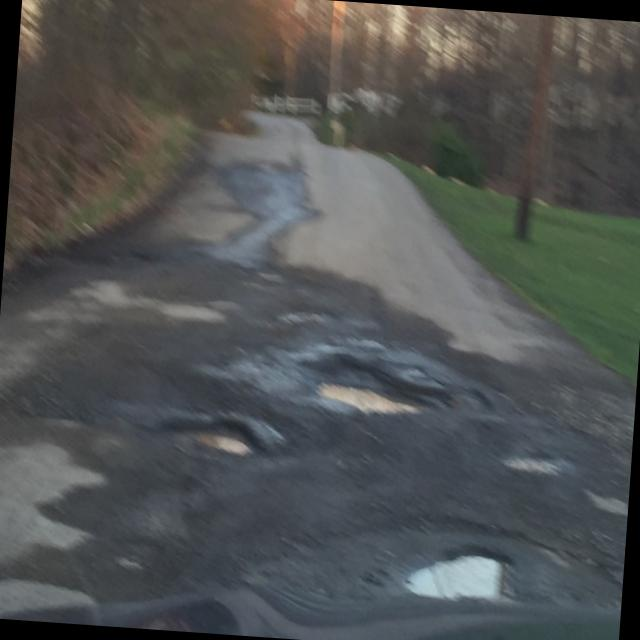Potholes: (66, 538, 276, 637), (386, 502, 528, 633), (148, 388, 295, 507), (296, 334, 449, 444), (495, 430, 579, 486), (584, 466, 630, 542)
